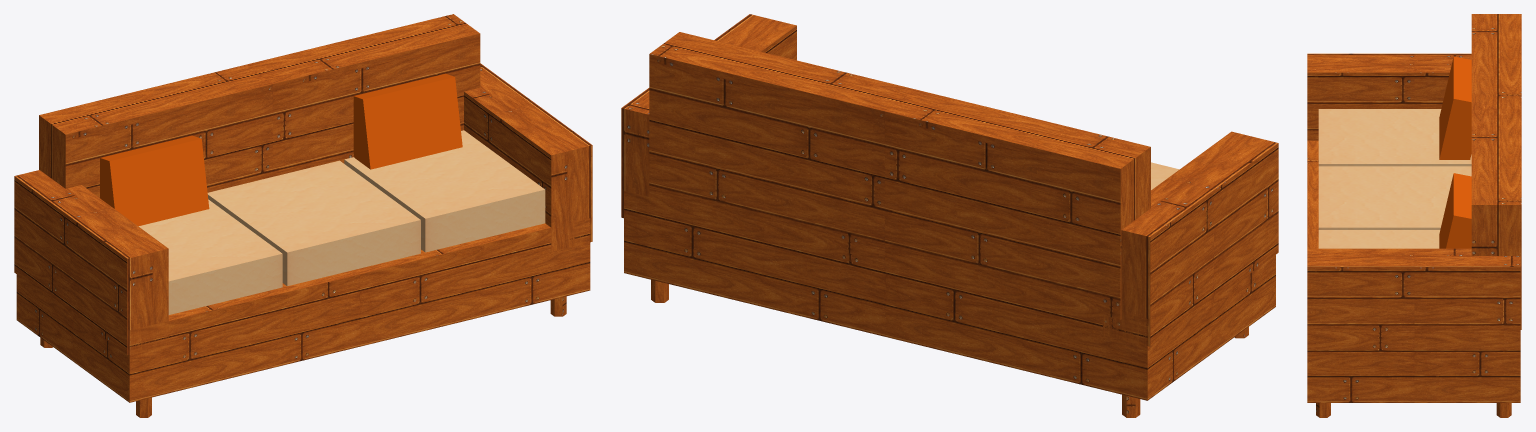
The model's file is Sofa.fbx.
3 renders of one model, left to right at view 1: azimuth 30°, elevation 25°; view 2: azimuth 150°, elevation 25°; view 3: azimuth 270°, elevation 25°, orthographic. The views are drawn at different scales.
Parts seen in each view (by area): view 1: Sofa; view 2: Sofa; view 3: Sofa.
Boxes of the visible parts, box(x1,y1,x2,y2) form: Sofa: box(14, 14, 592, 417); Sofa: box(621, 14, 1278, 417); Sofa: box(1307, 14, 1521, 417).
Bounding box in the file's own units: 2.02 × 0.925 × 0.855.
